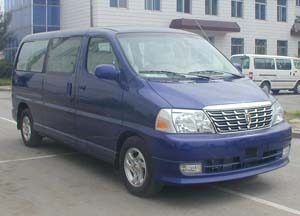midcar: (14, 23, 292, 192)
